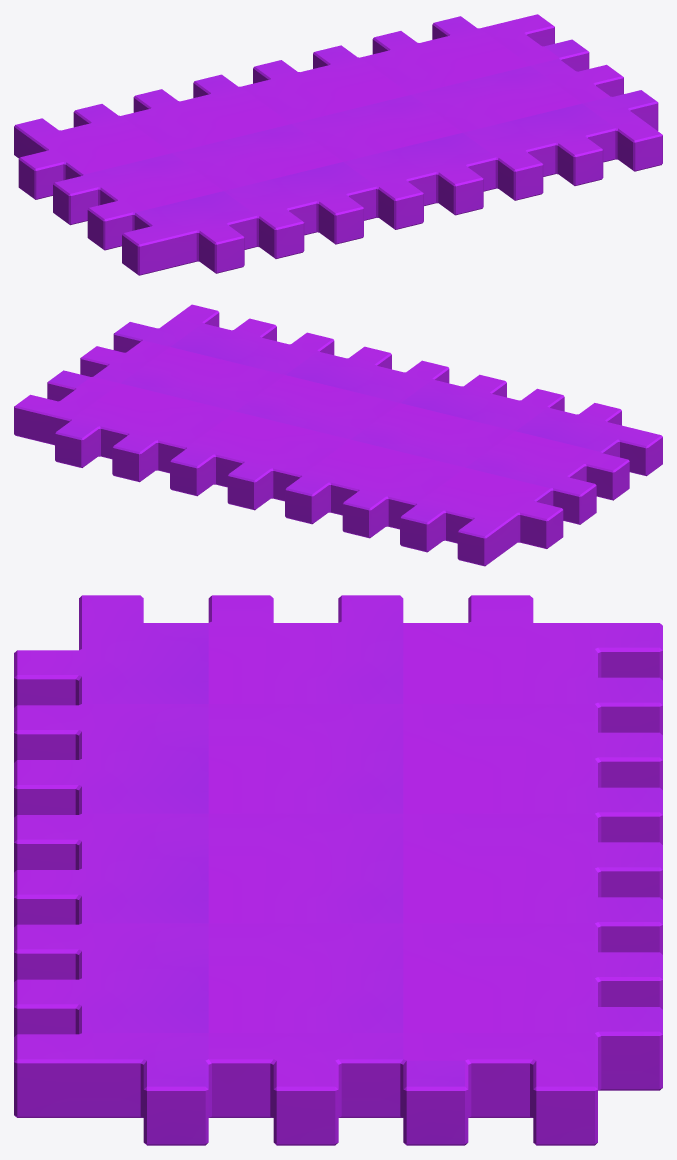
The model's file is PinkRect.fbx.
3 renders of one model, top to bottom at view 1: azimuth 30°, elevation 25°; view 2: azimuth 150°, elevation 25°; view 3: azimuth 270°, elevation 25°, orthographic. The views are drawn at different scales.
Parts seen in each view (by area): view 1: BlueRect; view 2: BlueRect; view 3: BlueRect.
Part boxes in pixels (box(x1,y1,x2,y2)): BlueRect: box(14, 14, 662, 275); BlueRect: box(14, 304, 662, 566); BlueRect: box(14, 595, 662, 1145).
Size of the model in its own units: 9 by 0.5001 by 5.
